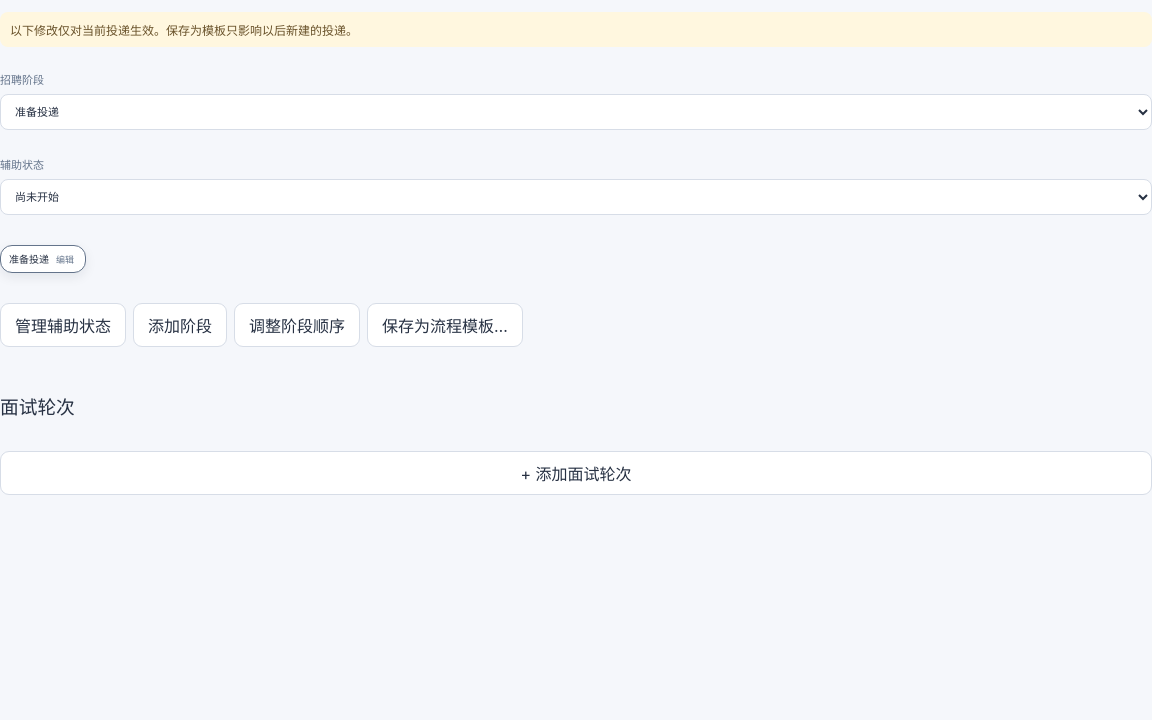
Test case: record-scoped workflow forms › validates duplicate labels and confirms removal without writing until save
Click the button "管理辅助状态" at (63, 325), box left=0, top=303, right=126, bottom=347
(page scrolled)
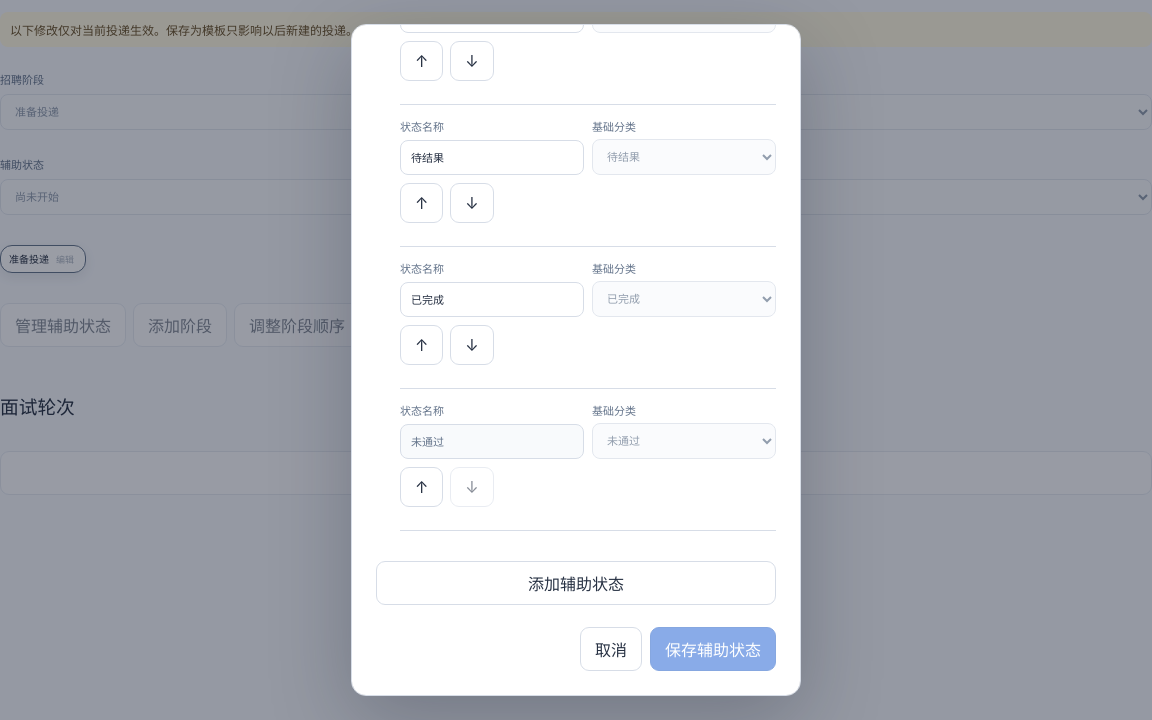
Click the button "添加辅助状态" at (576, 583), box left=376, top=561, right=776, bottom=605
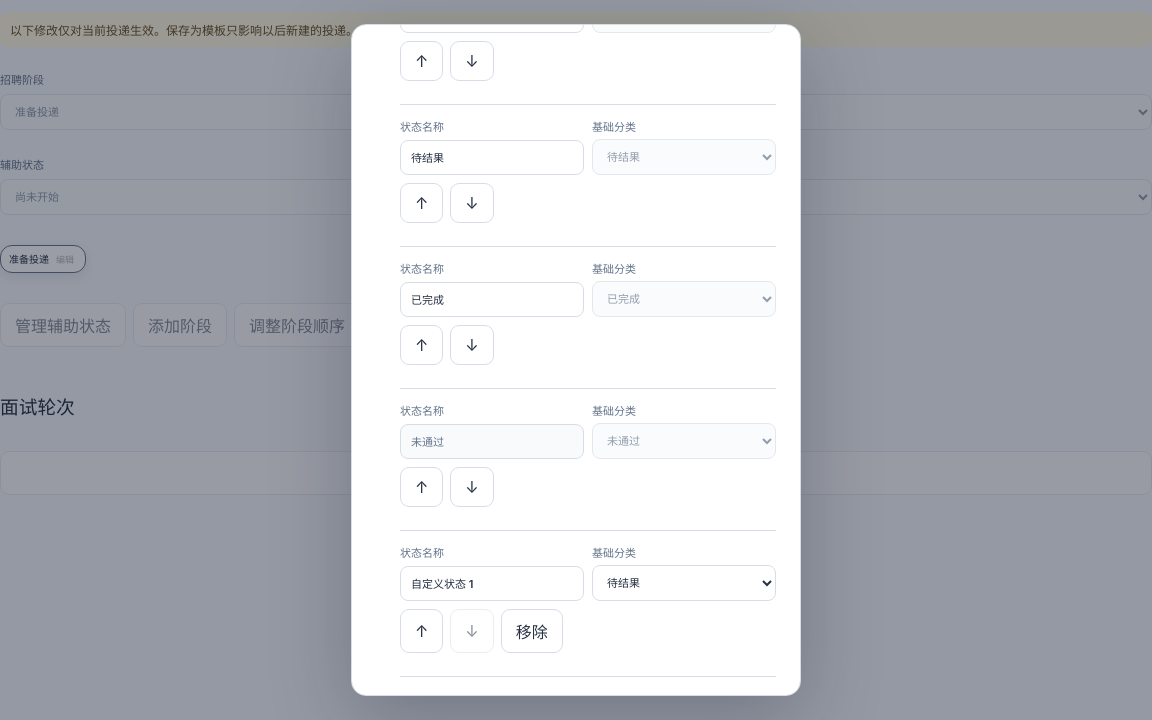
Replace the text in the field named "辅助状态 7 名称" with "待结果" at (492, 583), box left=400, top=566, right=584, bottom=601
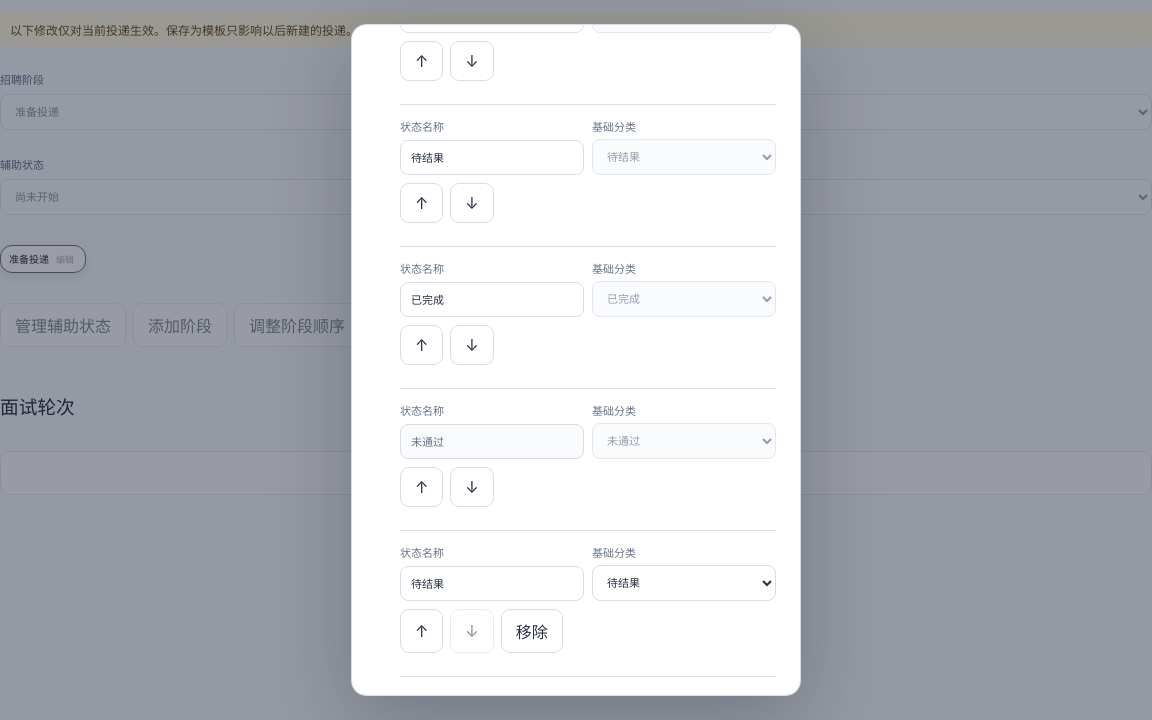
Click the button with aria-label "移除辅助状态 待结果" at (532, 631), box left=501, top=609, right=563, bottom=653
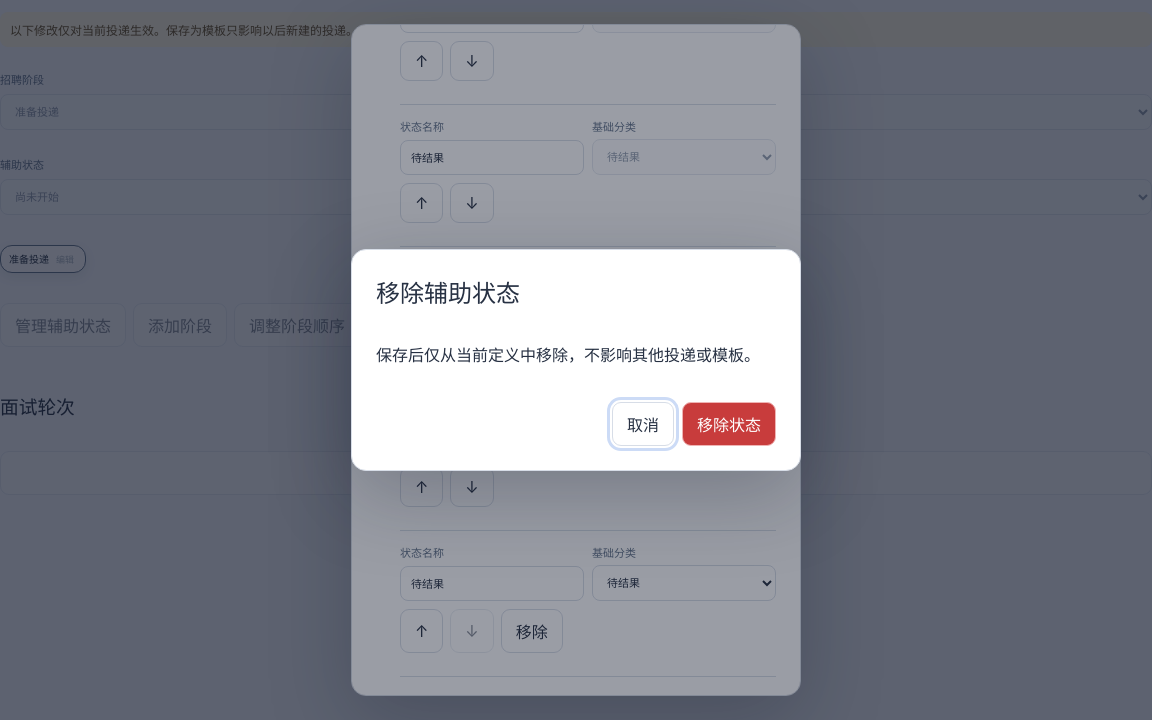
Click the button "移除状态" at (729, 424), box left=682, top=402, right=776, bottom=446
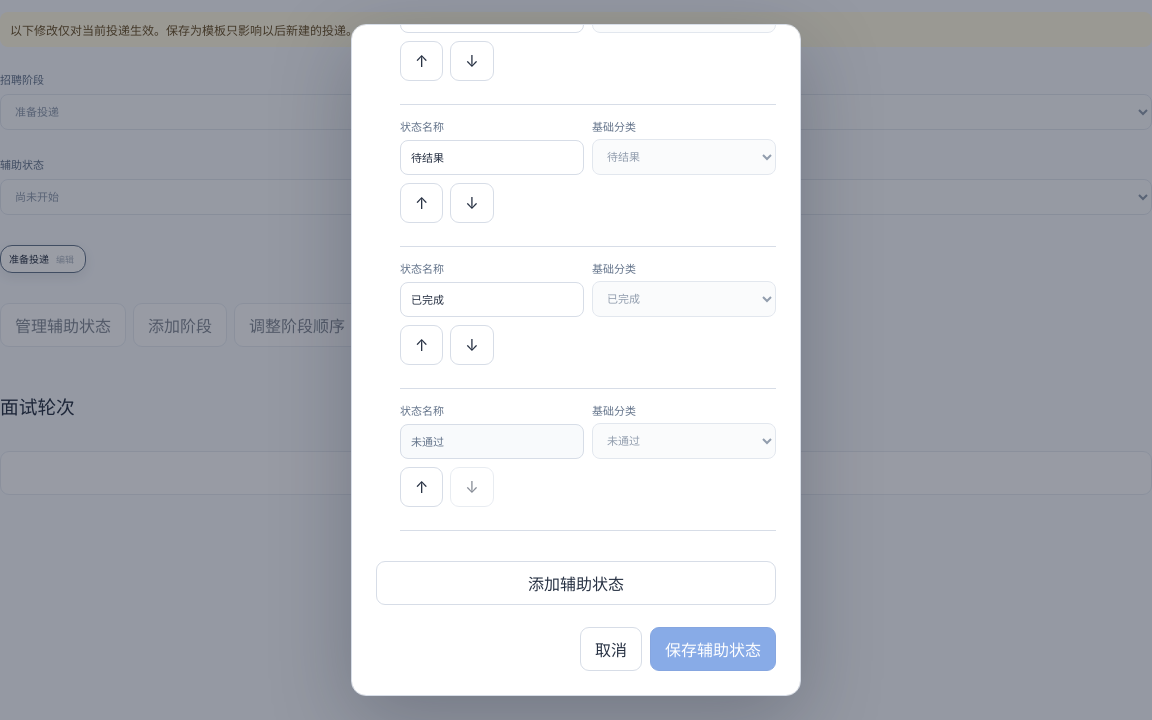
Result: the button "保存辅助状态" is disabled at left=650, top=627, right=776, bottom=671
Click the button "取消" at (611, 649), box left=580, top=627, right=642, bottom=671
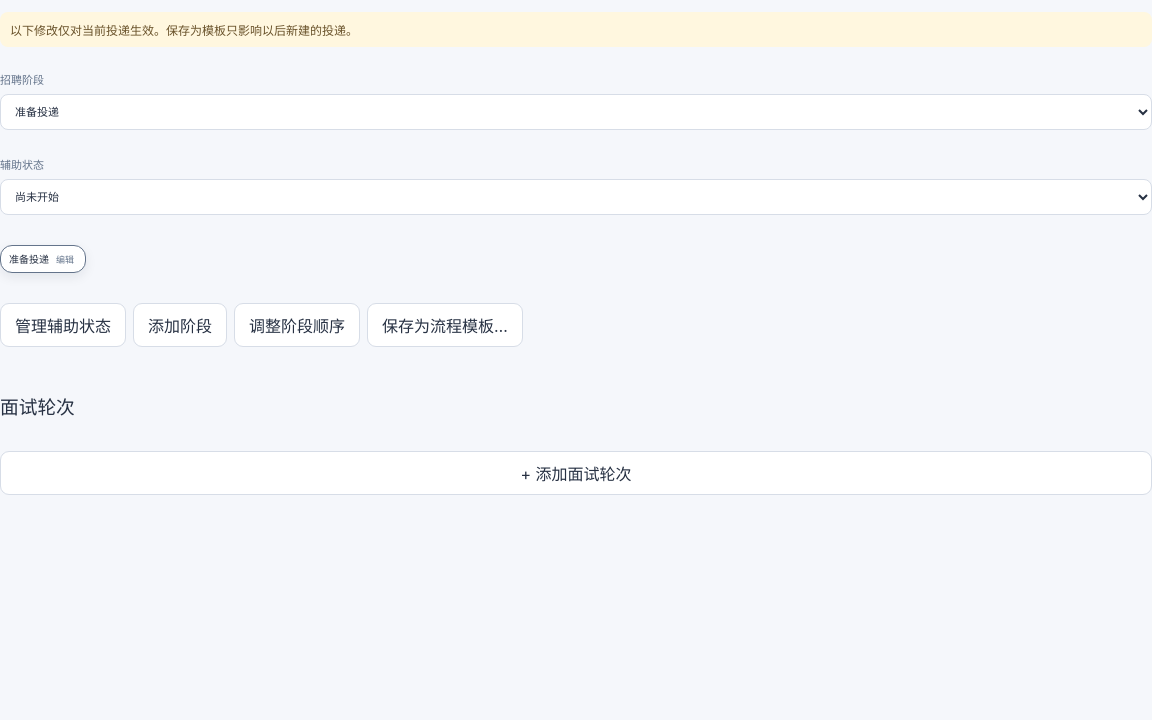
Result: the dialog is gone
